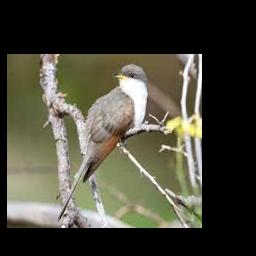Cuckoo: (57, 63, 148, 221)
